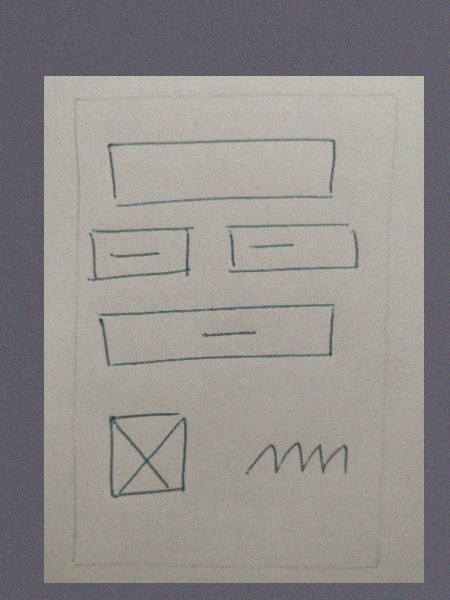button: (91, 299, 349, 370), (221, 219, 364, 279), (84, 221, 196, 288)
image: (98, 407, 192, 502)
text: (238, 436, 353, 482)
text_input: (96, 133, 358, 206)
